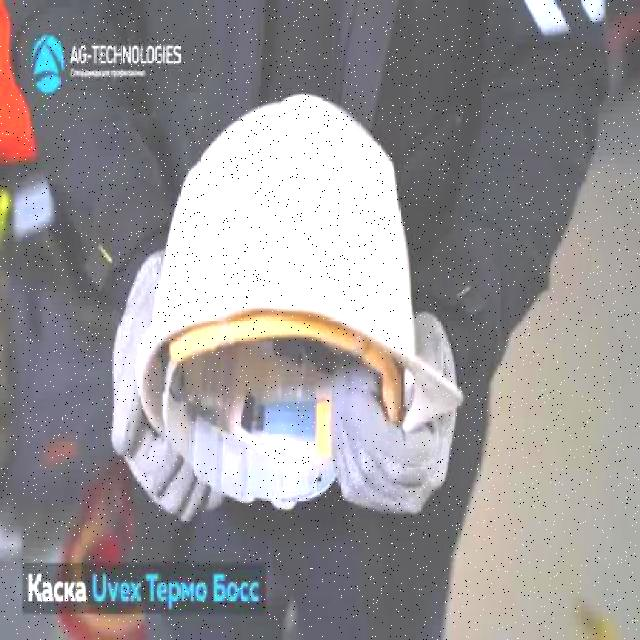Gloves: (113, 247, 225, 522), (329, 309, 460, 517)
Helmet: (134, 91, 463, 512)
